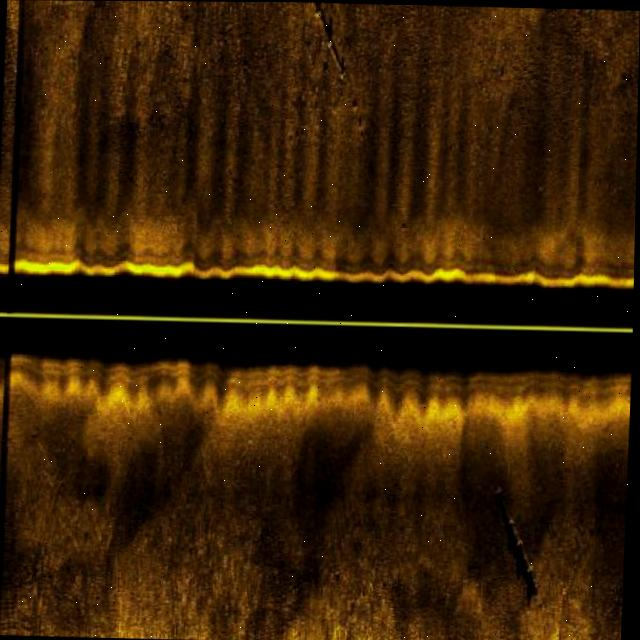other: (483, 468, 559, 608), (303, 3, 381, 136)
